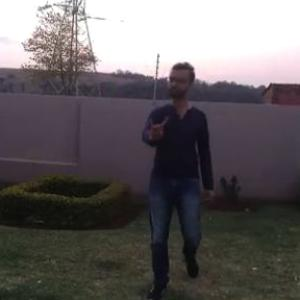takeoff-hand: (140, 107, 170, 144)
